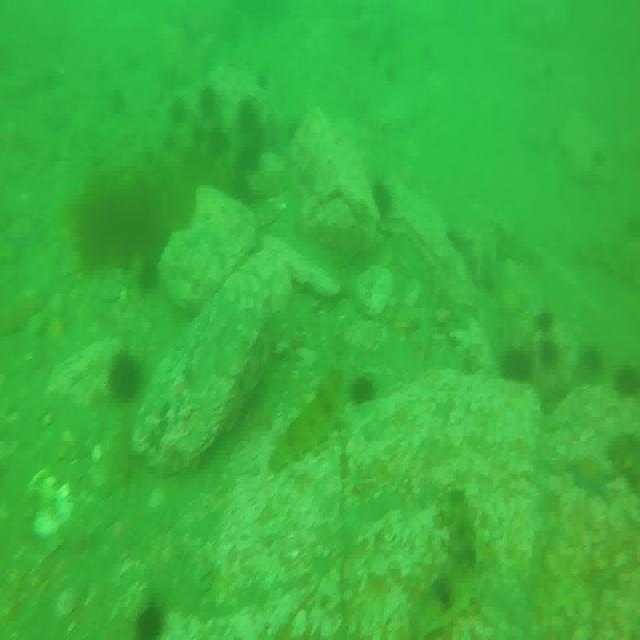echinus: (110, 349, 143, 399), (502, 346, 533, 384), (135, 596, 160, 640), (371, 177, 396, 221), (239, 137, 268, 171), (615, 364, 640, 403), (579, 346, 604, 383), (238, 101, 262, 138), (205, 122, 230, 157), (140, 252, 162, 287), (348, 375, 373, 405), (170, 96, 189, 128), (537, 307, 554, 339), (199, 85, 217, 112), (542, 340, 560, 366)
holothurian: (414, 489, 478, 640), (270, 362, 348, 474)
starfish: (569, 453, 615, 502)
